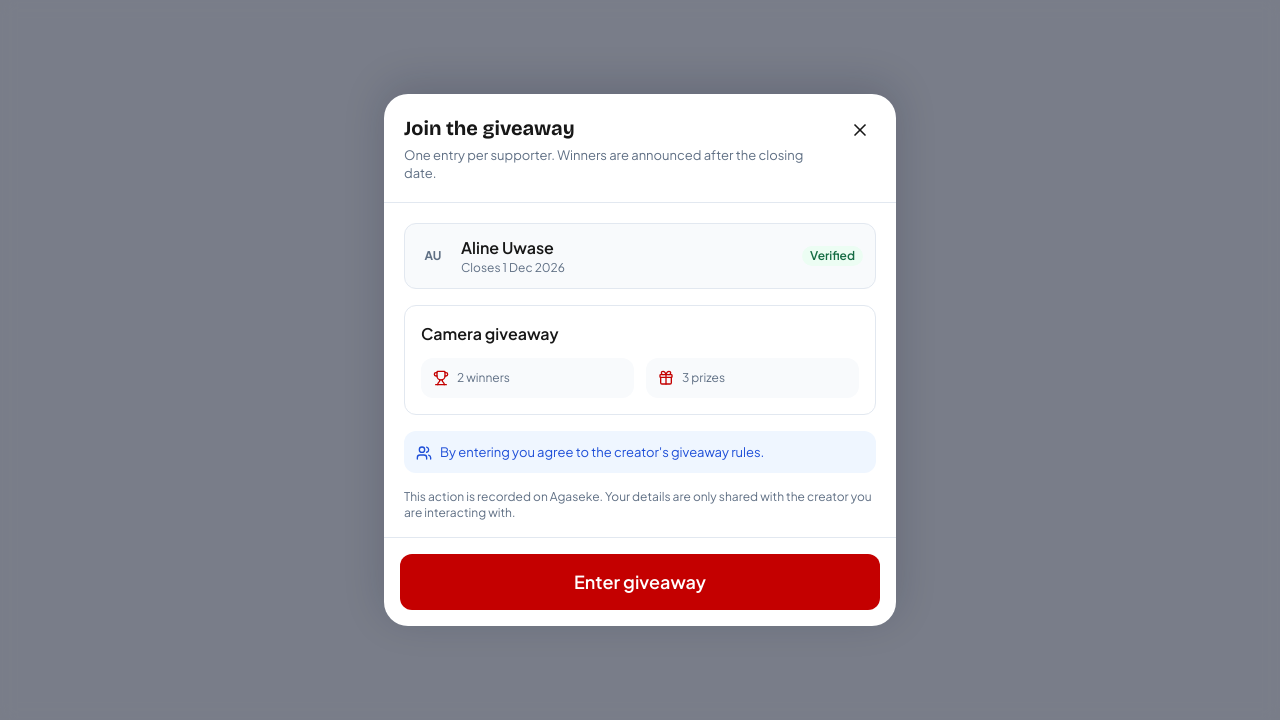
supporter action sheets › enters a giveaway and shows the success state
Click the button "Enter giveaway": (640, 582) [400,554,880,610]
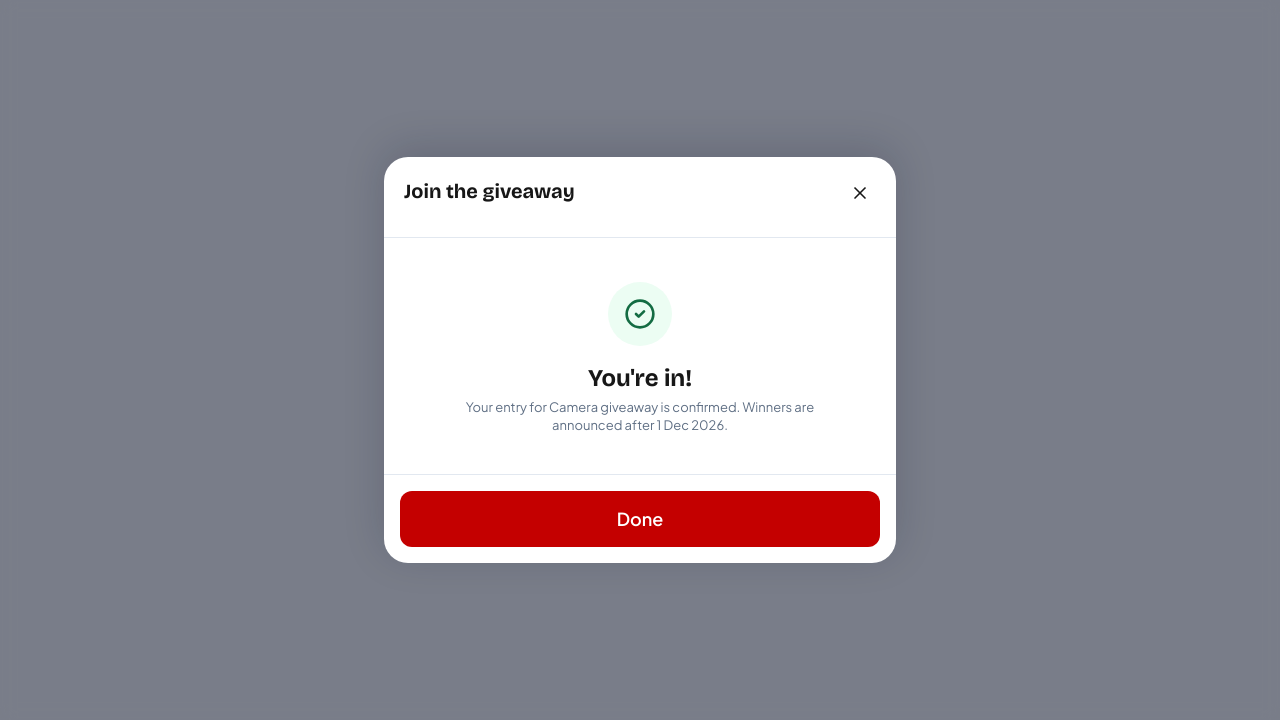
Result: the heading "You're in!" is shown at [588,364,692,392]
